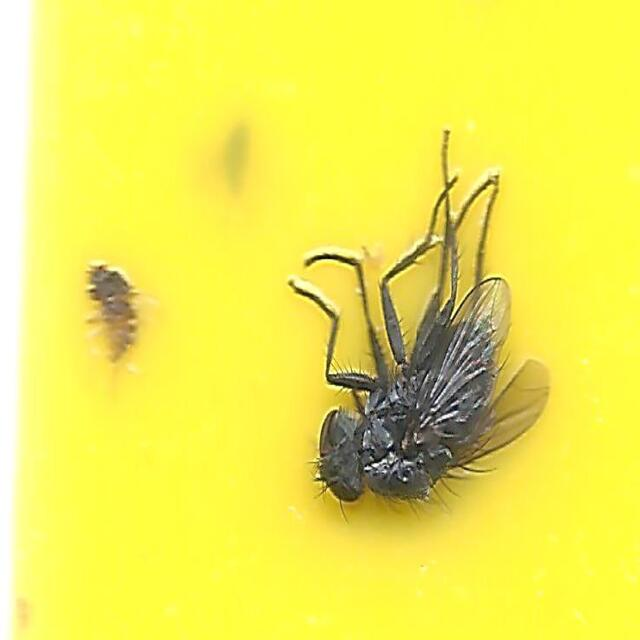Brachycera: (292, 131, 554, 509), (86, 258, 141, 378)
